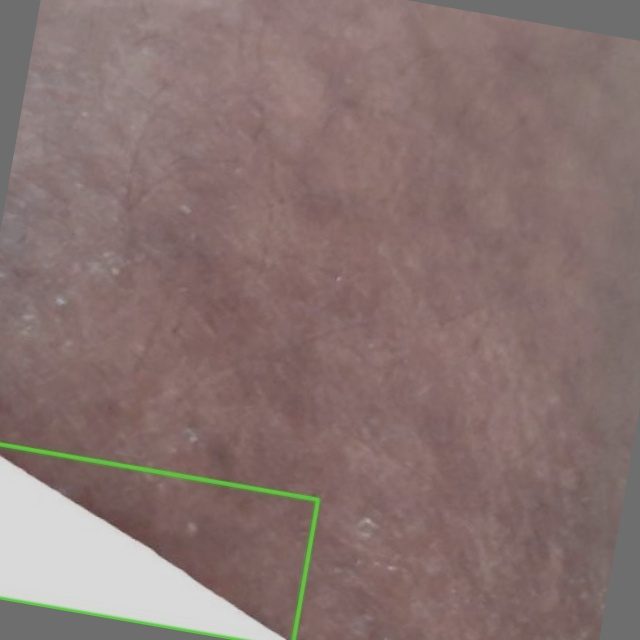Contact Dermatitis: (0, 444, 318, 639)
